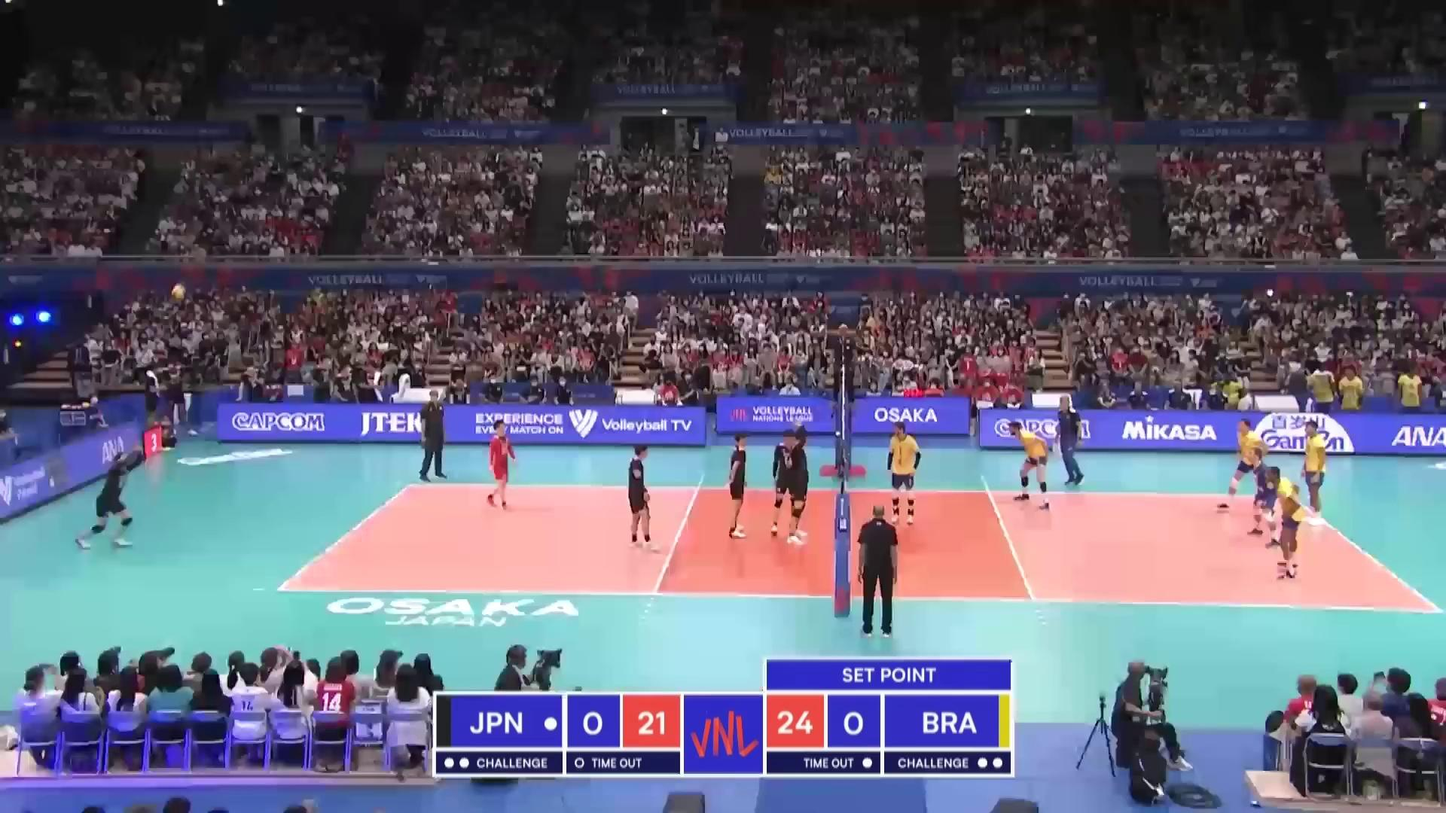player: (78, 444, 145, 549), (1219, 417, 1269, 514), (1266, 466, 1303, 579), (1007, 421, 1050, 509), (1246, 448, 1282, 547), (887, 422, 922, 523), (773, 432, 806, 535), (627, 447, 657, 550), (1299, 422, 1327, 527), (486, 420, 515, 511), (788, 429, 810, 545), (726, 436, 749, 539)
refree: (858, 504, 898, 637), (830, 321, 856, 414)
